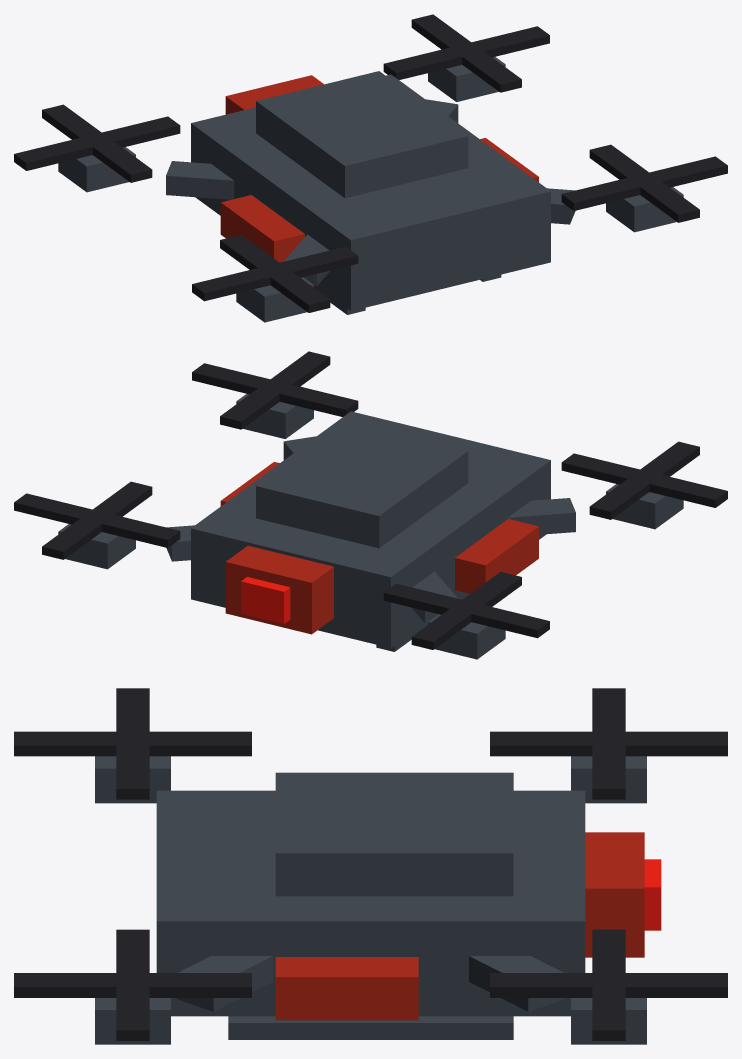
Rendered from n64_drone_enemy.obj.
3 views of the same model, one above another, from view 1: azimuth 30°, elevation 25°; view 2: azimuth 150°, elevation 25°; view 3: azimuth 270°, elevation 25° (orthographic). The views are drawn at different scales.
Bounding box in the file's own units: 1.7 × 0.41 × 1.5.
